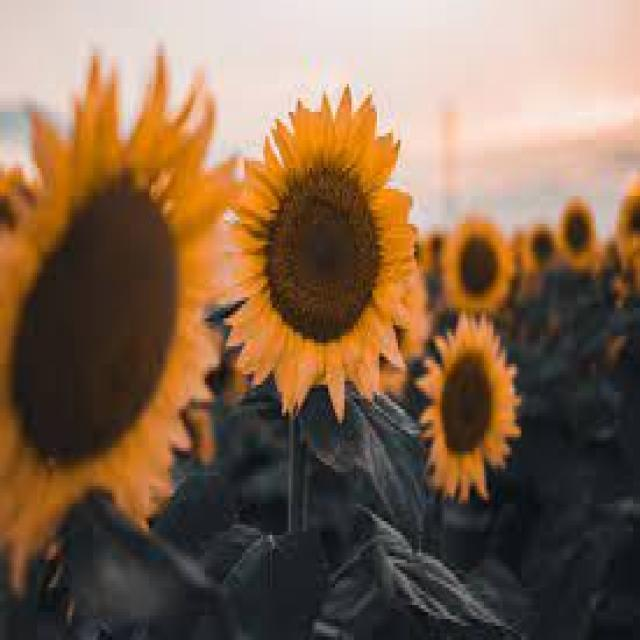sunflower: (0, 45, 244, 594), (221, 80, 419, 423), (414, 311, 522, 504), (364, 263, 431, 388), (440, 217, 512, 315), (556, 196, 596, 270), (0, 169, 42, 229), (177, 414, 216, 467), (520, 220, 556, 276), (614, 182, 638, 264), (208, 352, 245, 405), (423, 231, 446, 270)
